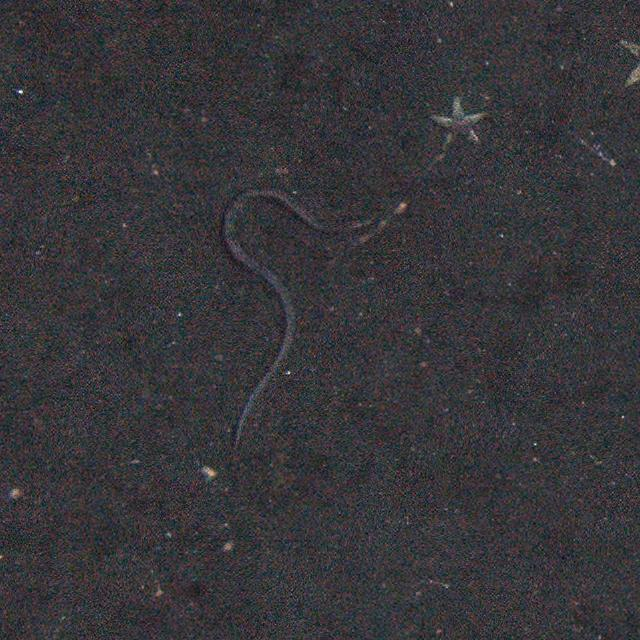eel: (219, 184, 396, 450)
